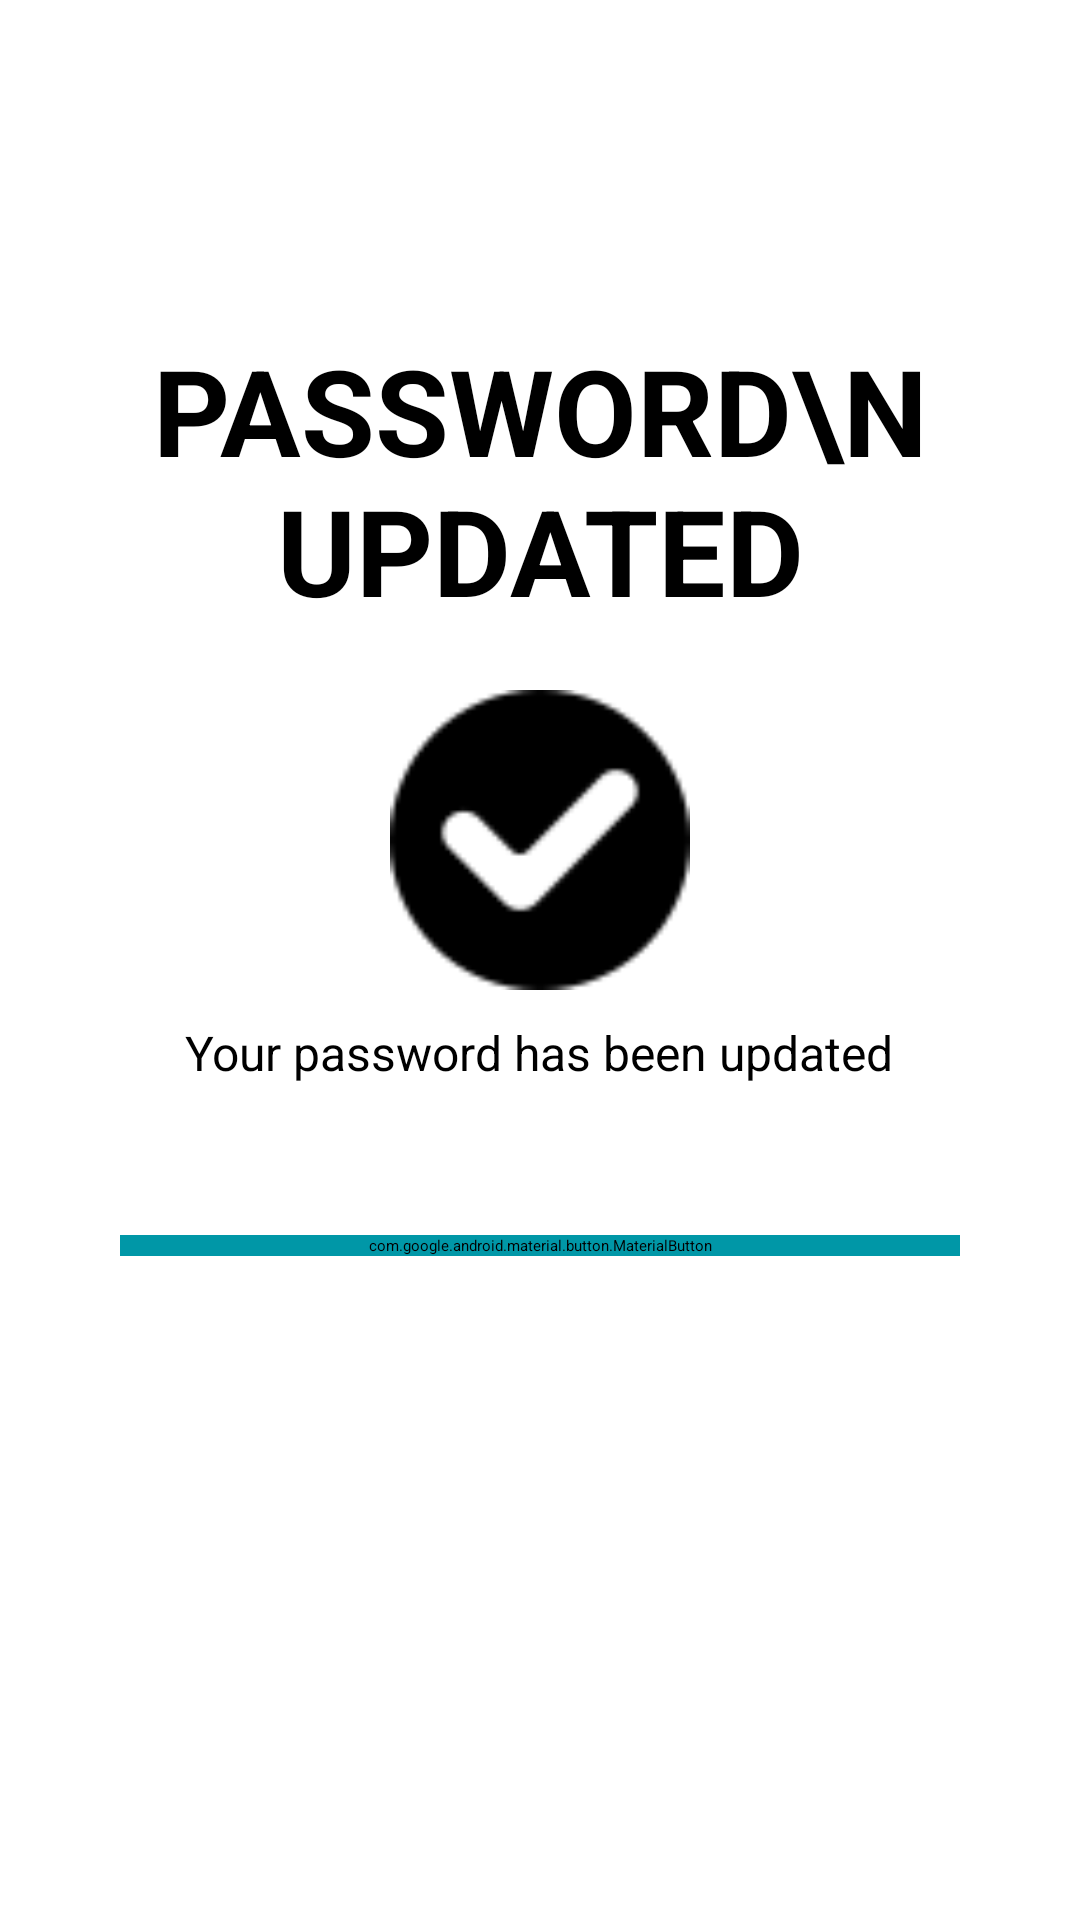

Where icons sit on this 1080x1920 app screen, as bbox=(x1, y1, x2, y2):
checkmark: bbox=(390, 690, 690, 990)
